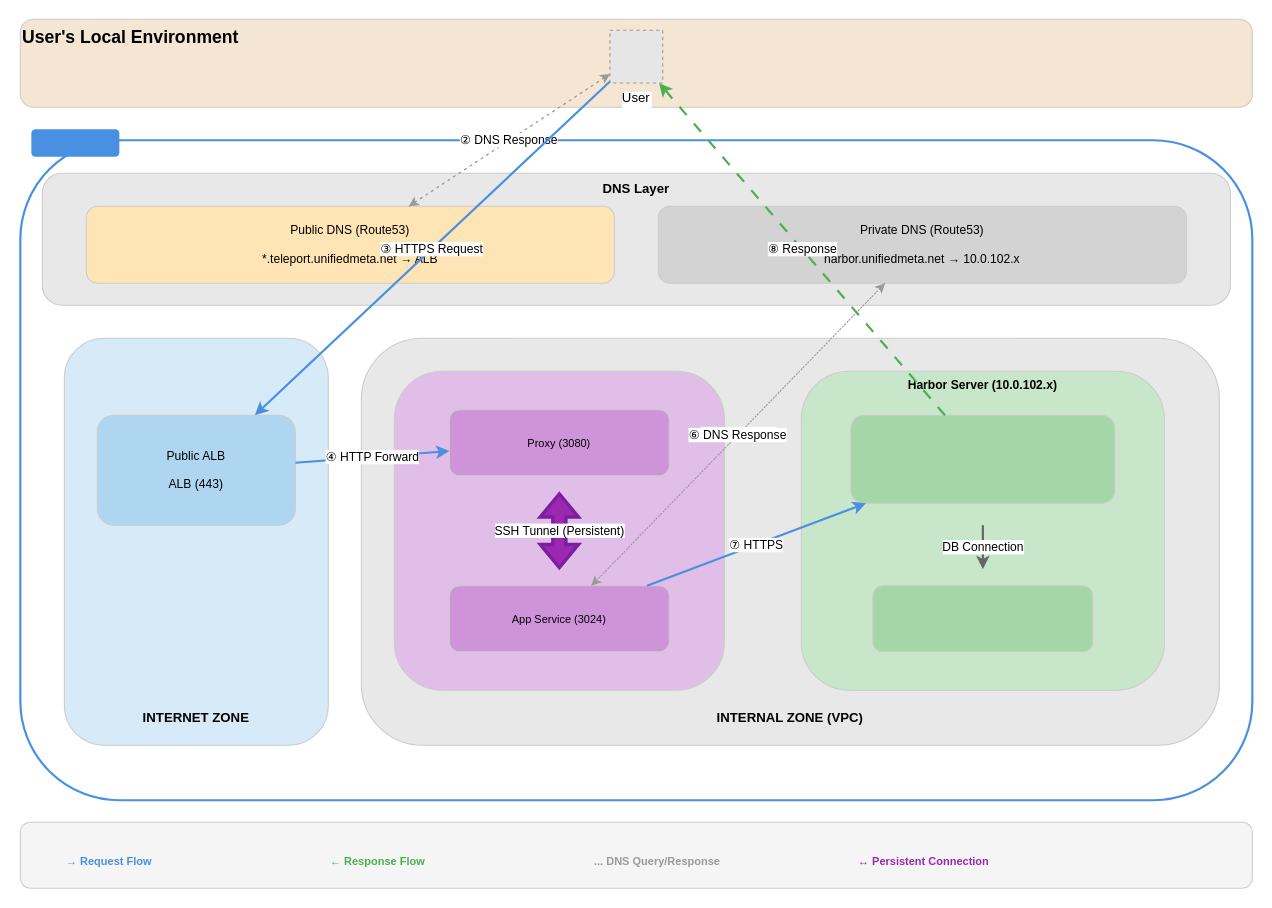
Image size: 1272x908. Some labels were removed from this diagram. Grey dashed boxes stand in for pictures. Each missing label, with the box of its shape:
AWS Cloud: (31, 129, 119, 156)
Harbor Registry: (850, 414, 1115, 503)
Legend: (19, 821, 1252, 888)
PostgreSQL: (872, 585, 1093, 652)
Teleport Server (10.0.201.42): (393, 370, 724, 690)
